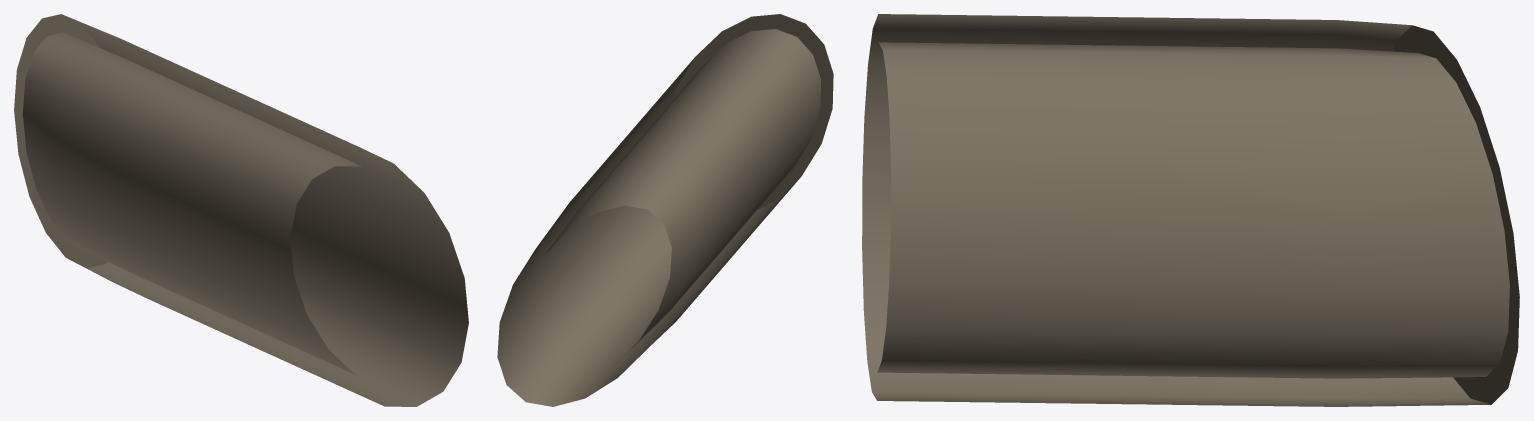
The picture shows the model from 3 angles, left to right: view 1: azimuth 30°, elevation 25°; view 2: azimuth 150°, elevation 25°; view 3: azimuth 270°, elevation 25°; orthographic projection. The views are drawn at different scales.
Parts seen in each view (by area): view 1: Tube02-FACES.Mesh; view 2: Tube02-FACES.Mesh; view 3: Tube02-FACES.Mesh.
Part boxes in pixels (box(x1,y1,x2,y2)): Tube02-FACES.Mesh: box(14, 14, 468, 406); Tube02-FACES.Mesh: box(497, 14, 833, 406); Tube02-FACES.Mesh: box(862, 14, 1519, 406).
Size of the model in its own units: 0.0203 by 0.0246 by 0.0408.
